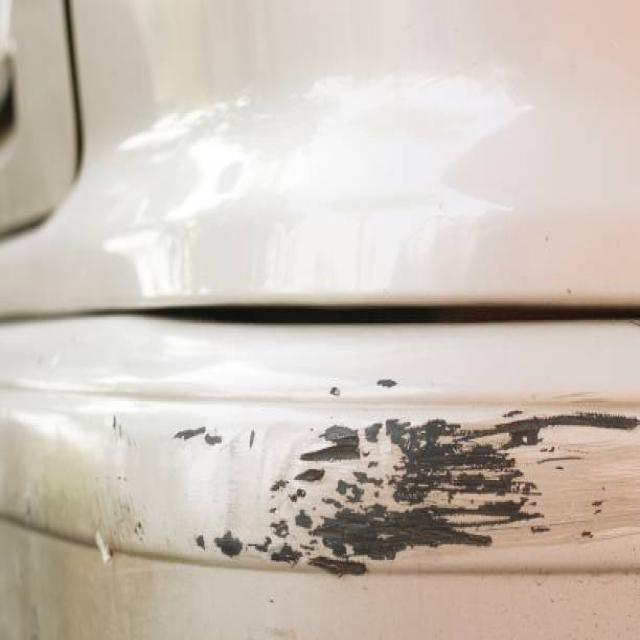Dent: (0, 317, 334, 395), (176, 424, 313, 555)
Scratch: (285, 402, 639, 571), (235, 425, 301, 543), (98, 413, 152, 541), (213, 530, 301, 565), (326, 376, 411, 400), (23, 480, 51, 525), (174, 425, 235, 445), (95, 521, 112, 563), (277, 521, 287, 535), (196, 535, 206, 547)
